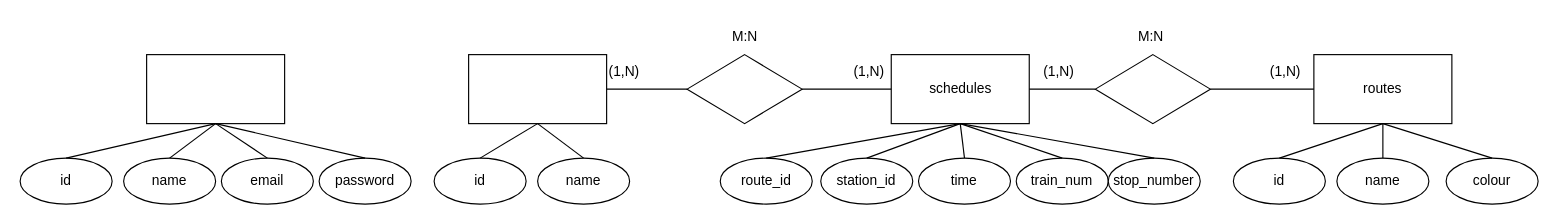
This 1558x224 diagram has some shape labels left out. Here are the shapes that lost their labels. From the top down, the box of each, then its label:
(145, 53, 285, 124): users
(467, 53, 607, 124): stations
(686, 53, 802, 124): route
(1094, 53, 1210, 124): scheduled
